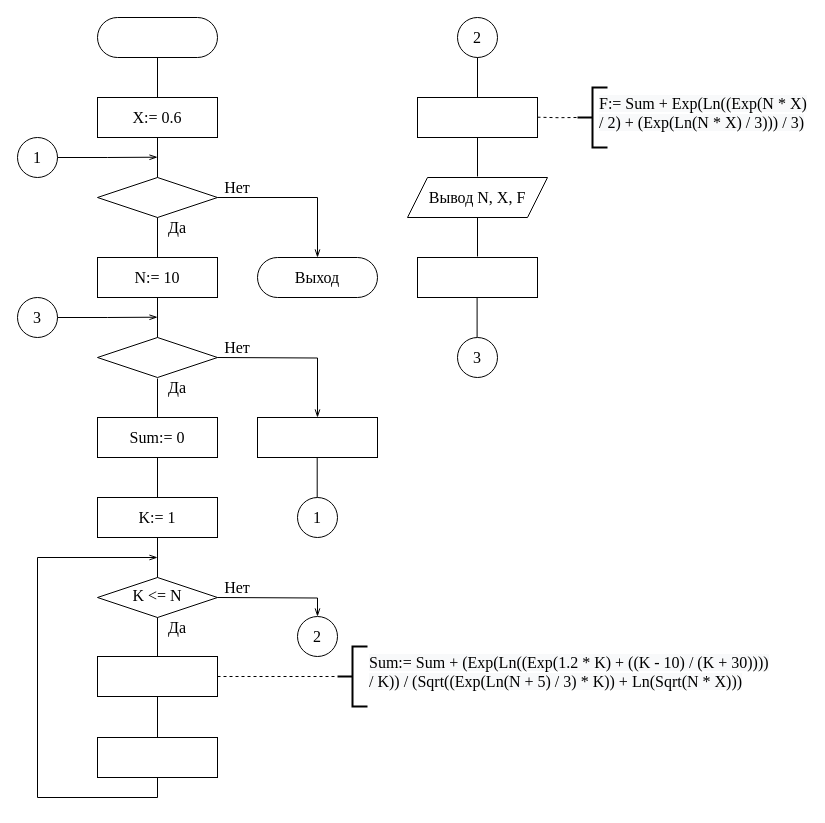
Image size: 825x823. Some labels were removed from this diagram. The shapes that lost their labels are listed below. From the top down, each one's centre as x and y in pixels, then its label:
(157,37): Вход
(157,197): X <= 1.1
(477,277): N:= N + 1
(157,357): N <= 15
(317,437): X:= X + 0.1
(157,757): K:= K + 1
